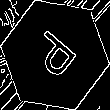P_SE: (26, 25, 84, 85)
